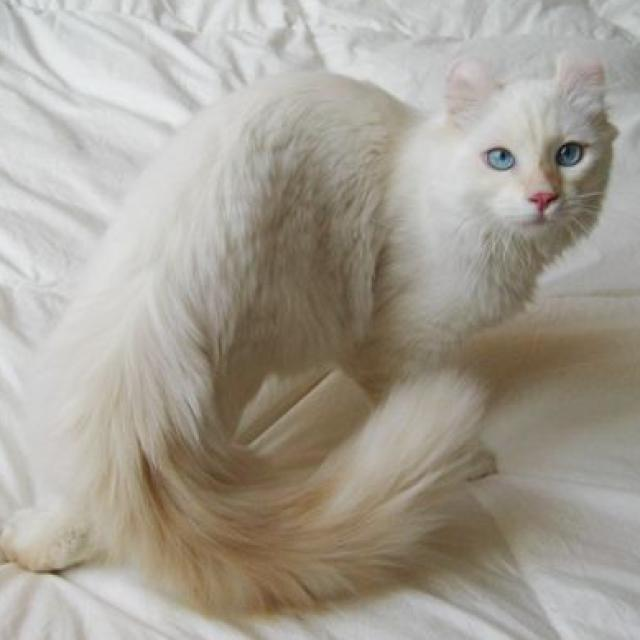American Curl: (0, 43, 622, 620)
